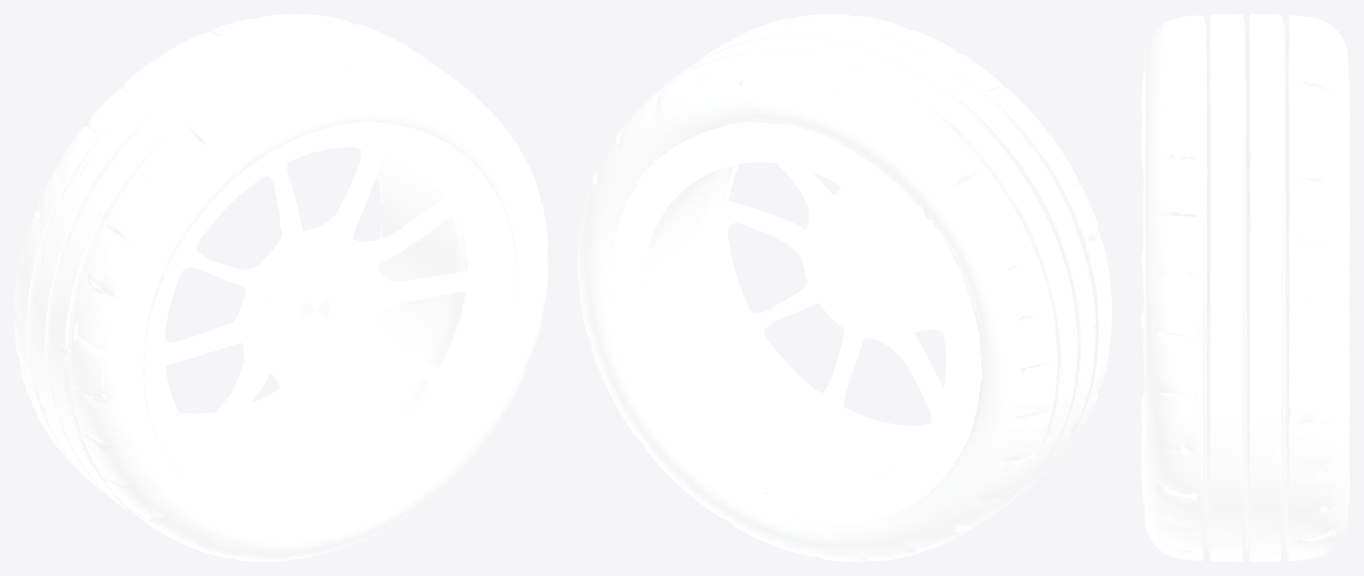
File: Meshy_AI_Twin_Performance_Whee_1117002844_texture_41460tris.glb
3 renders of one model, left to right at view 1: azimuth 30°, elevation 25°; view 2: azimuth 150°, elevation 25°; view 3: azimuth 270°, elevation 25°, orthographic.
Parts seen in each view (by area): view 1: Mesh0; view 2: Mesh0; view 3: Mesh0.
Part boxes in pixels (left/top/right/bottom): Mesh0: left=14, top=14, right=548, bottom=561; Mesh0: left=577, top=14, right=1112, bottom=561; Mesh0: left=1141, top=14, right=1349, bottom=561.
Bounding box in the file's own units: 190 × 190 × 72.34.
1 material, 1 textured.
